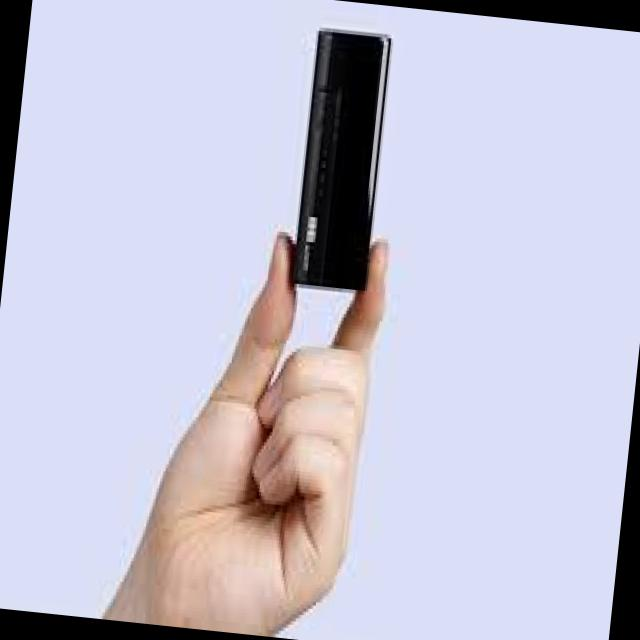power_bank: (288, 27, 398, 294)
